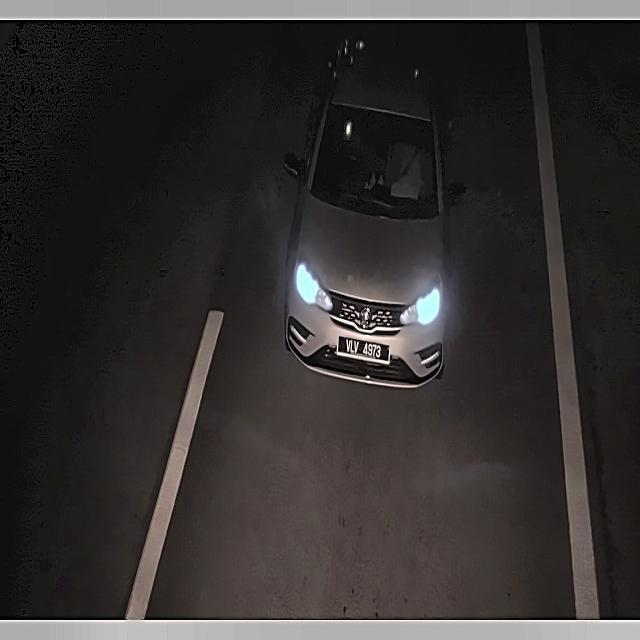car: (332, 332, 396, 372)
